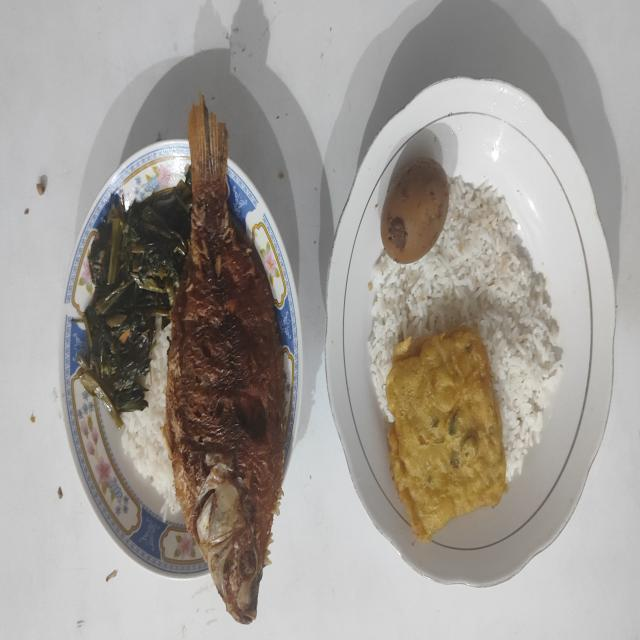ikan_mujair: (164, 96, 286, 624)
nasi_putih: (368, 176, 562, 481), (121, 326, 180, 518)
tumis_kangkung: (76, 168, 192, 427)
